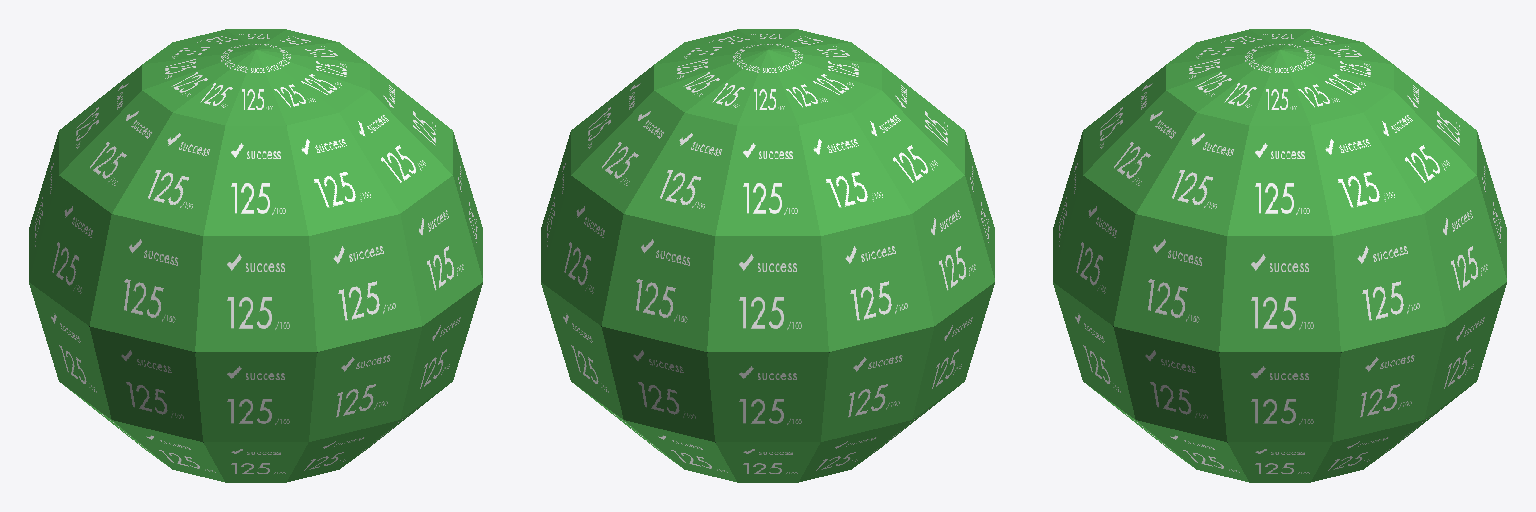
3 views of the same model, side by side, from view 1: azimuth 30°, elevation 25°; view 2: azimuth 150°, elevation 25°; view 3: azimuth 270°, elevation 25° (orthographic).
Visible parts, largest first — view 1: sphere; view 2: sphere; view 3: sphere.
Part boxes in pixels (x1,y1,x2,y2): sphere: (29,29,482,482); sphere: (541,29,994,482); sphere: (1053,29,1506,482).
Size of the model in its own units: 0.25 by 0.25 by 0.25.
1 materials, 1 textured.